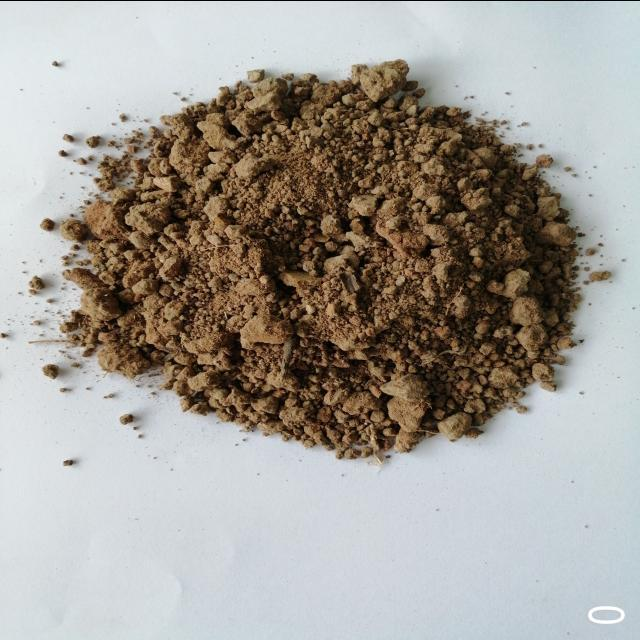soil: (154, 140, 516, 392)
